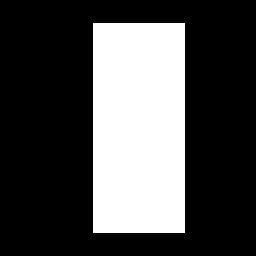person: (93, 23, 184, 232)
